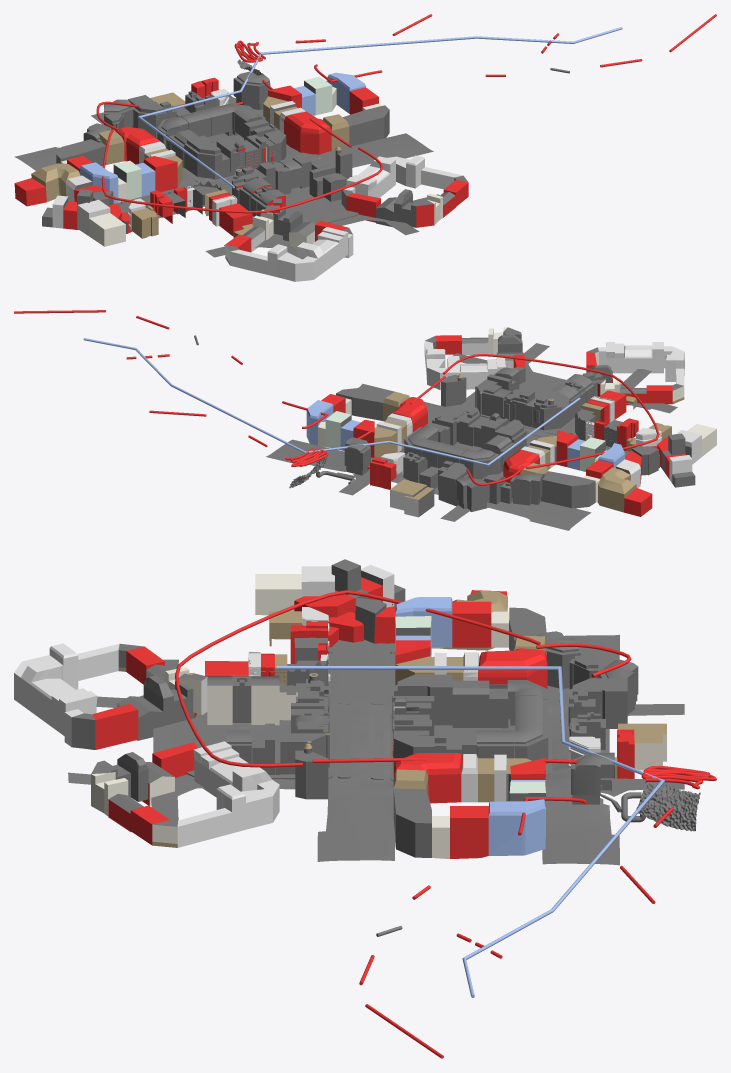
The model's file is BlockoutBarcelona.fbx.
3 views of the same model, one above another, from view 1: azimuth 30°, elevation 25°; view 2: azimuth 150°, elevation 25°; view 3: azimuth 270°, elevation 25° (orthographic). The views are drawn at different scales.
Visible parts, largest first — view 1: Box174; view 2: Box174; view 3: Box174.
Boxes of the visible parts, bbox=[...] form: Box174: bbox=[14, 14, 716, 281]; Box174: bbox=[14, 310, 716, 530]; Box174: bbox=[14, 559, 716, 1058].
Size of the model in its own units: 455 by 28.43 by 269.
